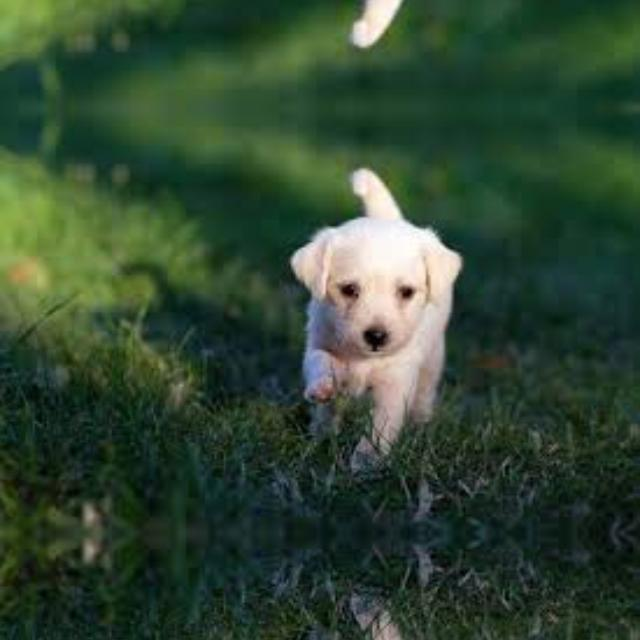dog: (270, 162, 486, 474), (270, 0, 486, 51), (270, 592, 486, 640)
